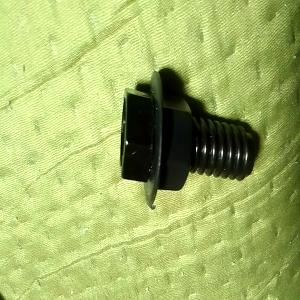parafuso: (120, 70, 256, 210)
